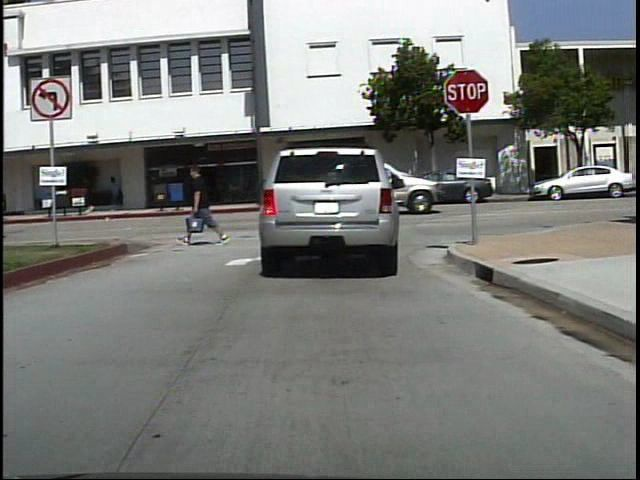person: (181, 159, 224, 247), (78, 171, 101, 216), (105, 172, 127, 213)
